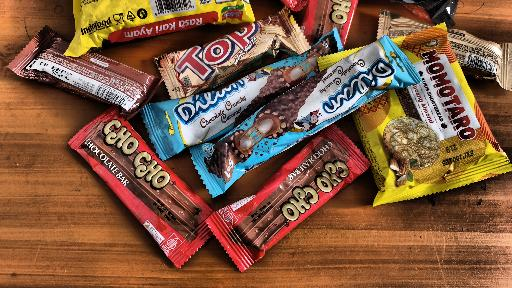chocho: (57, 108, 221, 272)
dilan: (209, 37, 390, 189), (153, 81, 266, 155)
momotaro: (365, 31, 506, 188)
top: (234, 118, 349, 280), (25, 19, 154, 115), (159, 9, 298, 96)
